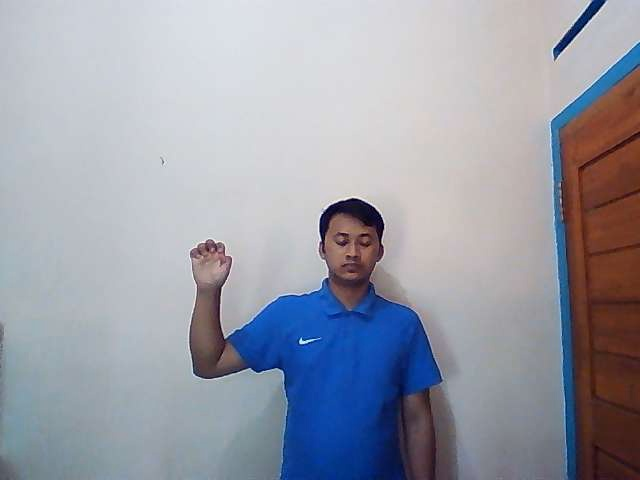E: (189, 238, 233, 289)
